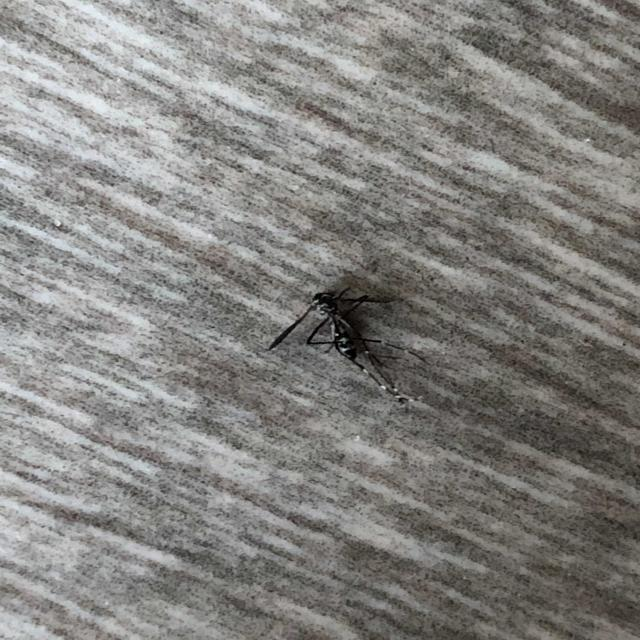albopictus: (258, 280, 422, 412)
